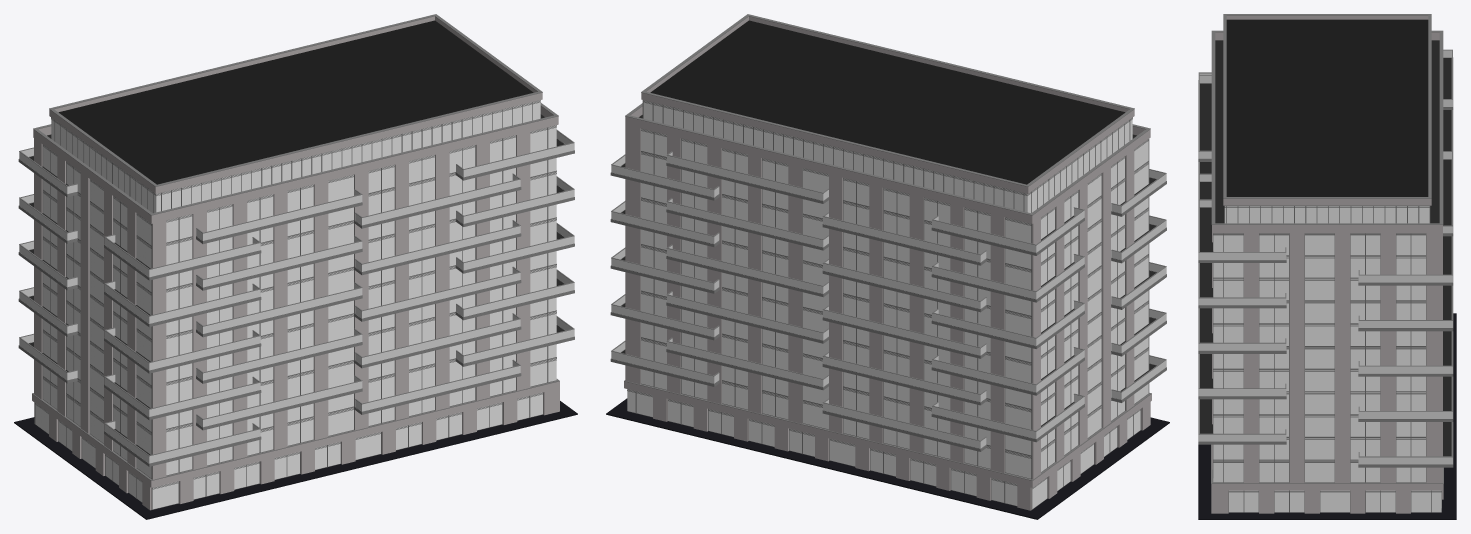
Rendered from skyline_plaza.glb.
3 renders of one model, left to right at view 1: azimuth 30°, elevation 25°; view 2: azimuth 150°, elevation 25°; view 3: azimuth 270°, elevation 25°, orthographic. The views are drawn at different scales.
Parts seen in each view (by area): view 1: Skyline Plaza Main_0; view 2: Skyline Plaza Main_0; view 3: Skyline Plaza Main_0.
Part boxes in pixels (<box>): Skyline Plaza Main_0: <box>14,14,577,519</box>; Skyline Plaza Main_0: <box>606,14,1169,519</box>; Skyline Plaza Main_0: <box>1198,14,1456,519</box>.
Size of the model in its own units: 1.28 by 0.903 by 0.68.
Materials: 17 (3 with a texture image).
